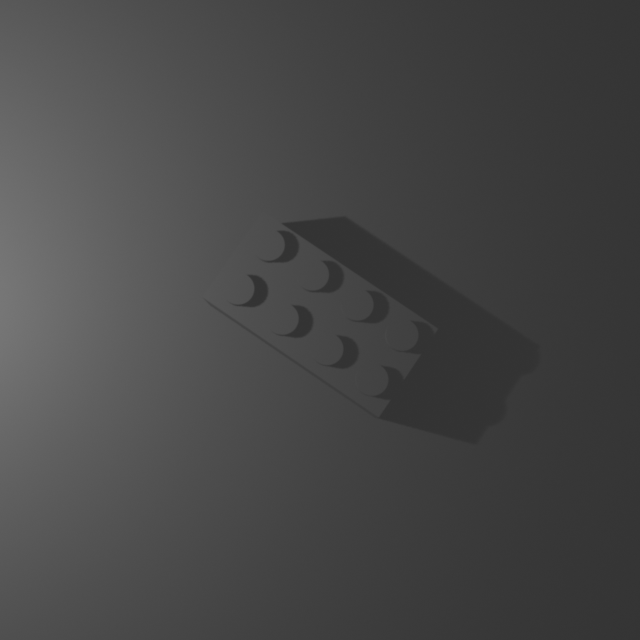lego_2x4: (201, 209, 440, 418)
